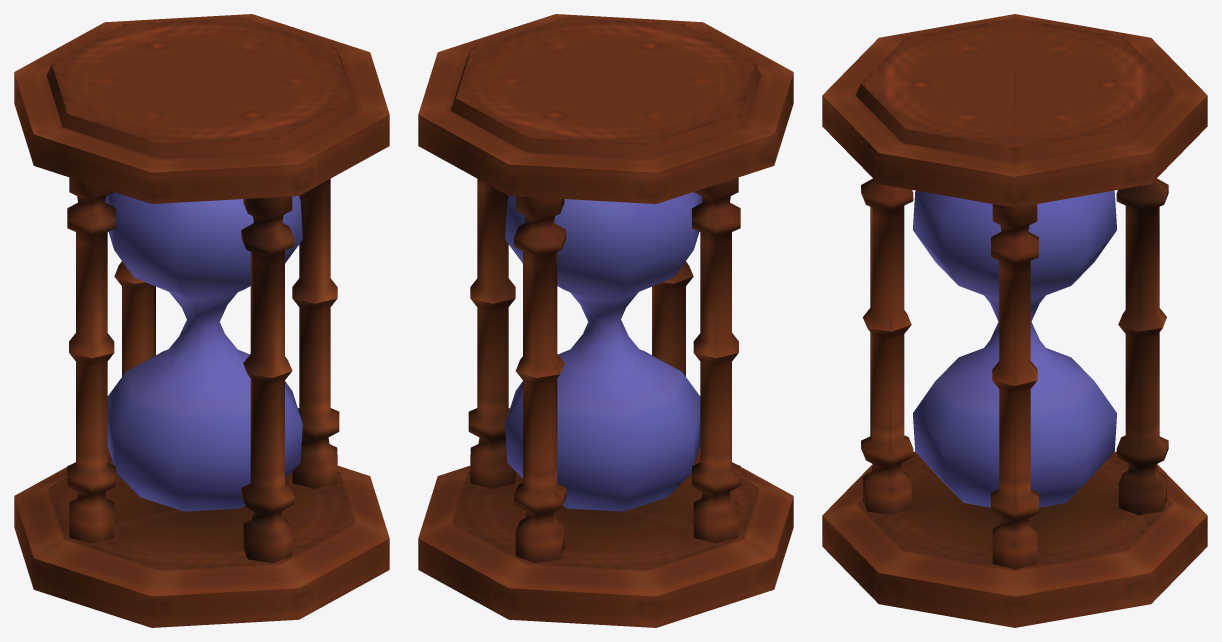
The model's file is Clock_04.gltf.
The picture shows the model from 3 angles, left to right: view 1: azimuth 30°, elevation 25°; view 2: azimuth 150°, elevation 25°; view 3: azimuth 270°, elevation 25°; orthographic projection.
Visible parts, largest first — view 1: Clock_04; view 2: Clock_04; view 3: Clock_04.
Boxes of the visible parts, left/top/right/bottom form: Clock_04: left=14, top=14, right=389, bottom=627; Clock_04: left=418, top=14, right=793, bottom=627; Clock_04: left=822, top=14, right=1207, bottom=627.
Bounding box in the file's own units: 21.31 × 29.01 × 21.32.
1 material, 1 textured.
